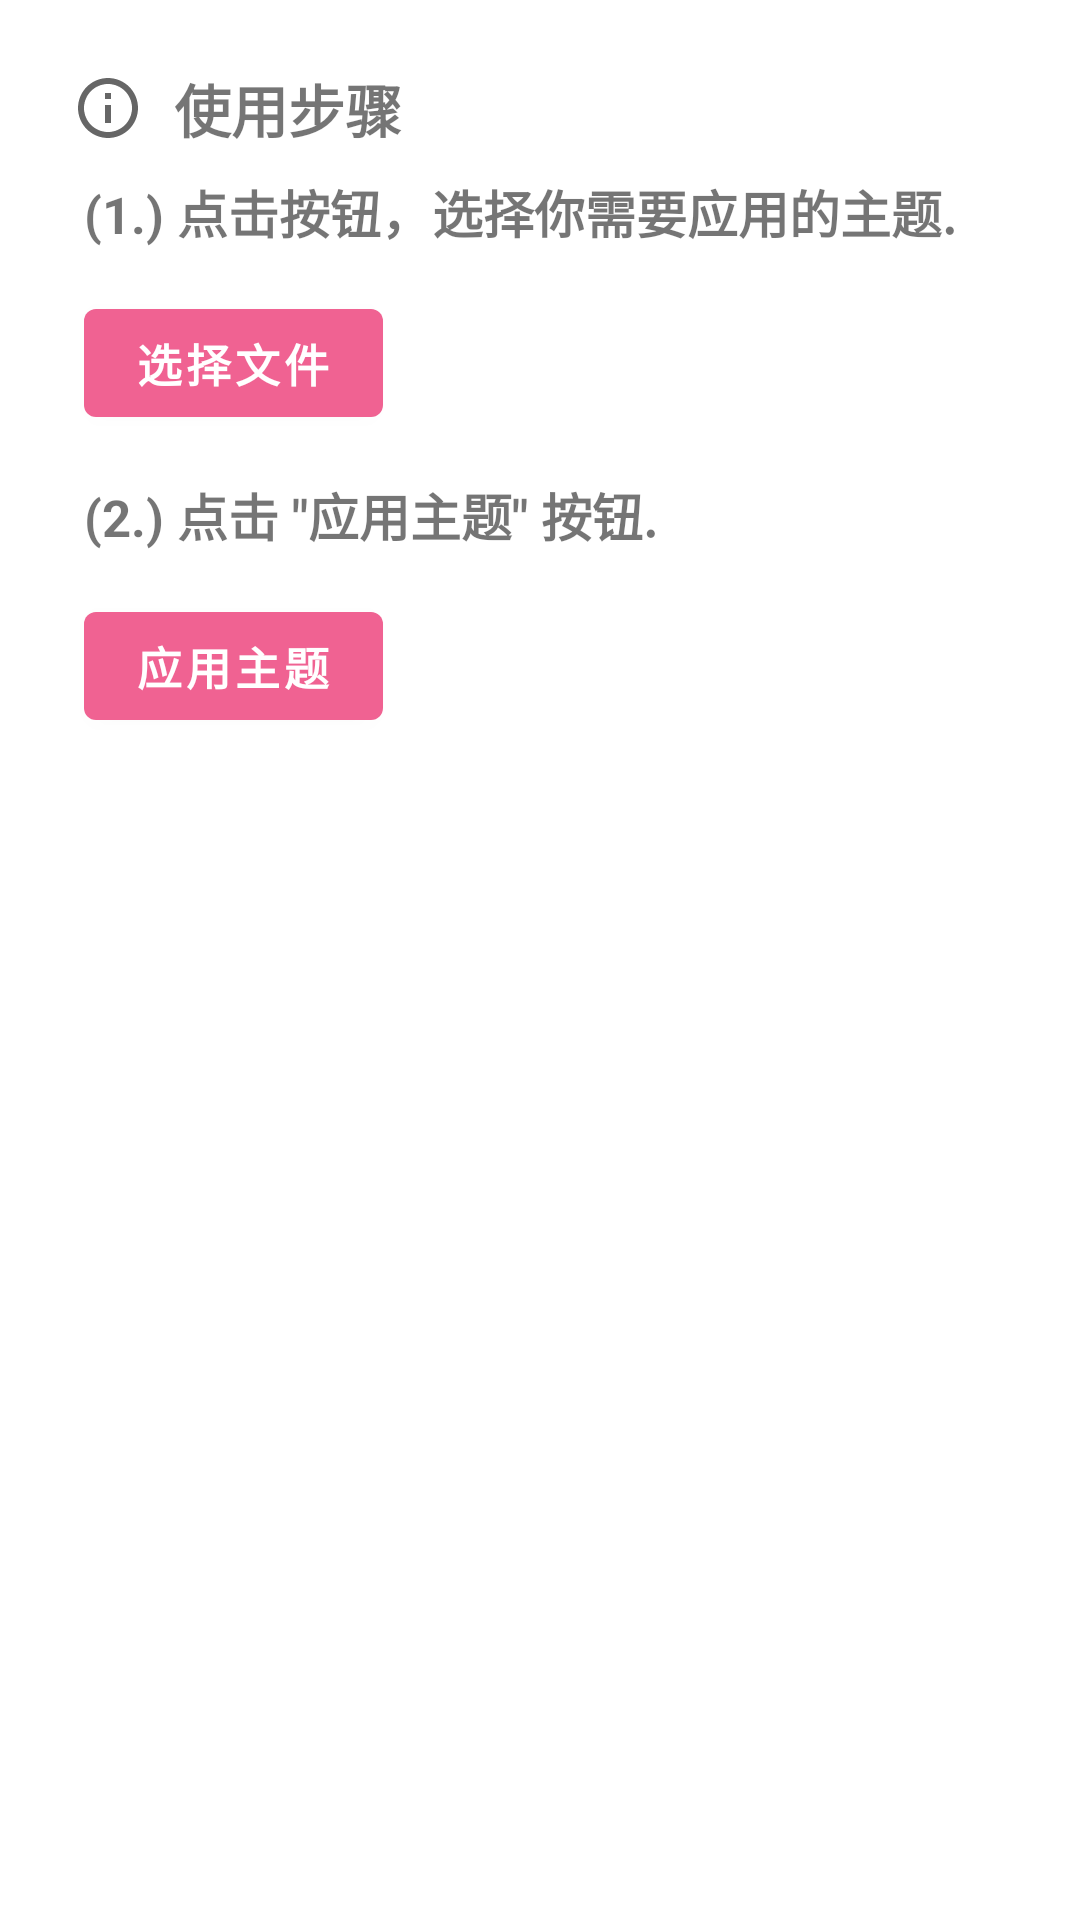

Icons on this 1080*1920 Android screen, each with its box as (x1, y1, x2, y2):
info: (78, 78, 138, 138)
